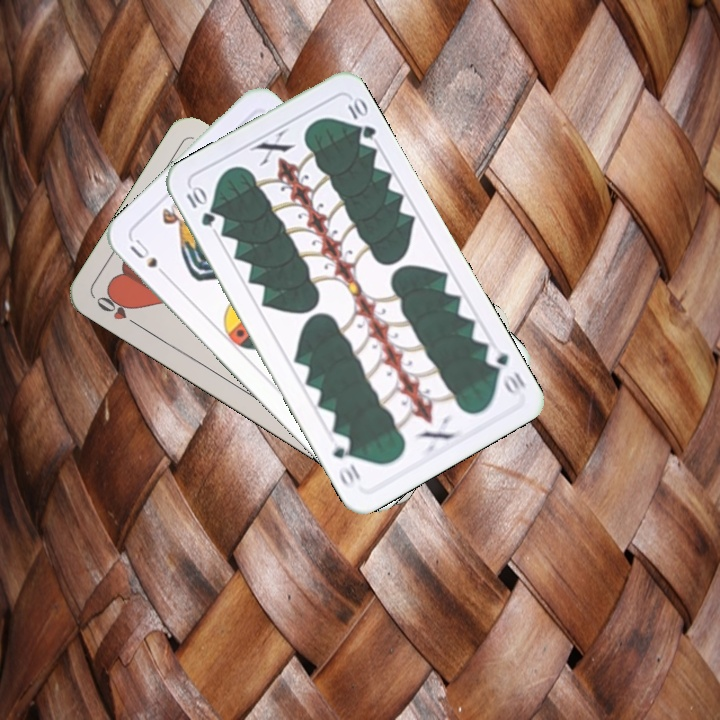G10: (481, 342, 528, 399), (182, 182, 218, 229)
HO: (92, 289, 144, 331)
SU: (125, 234, 173, 282)
